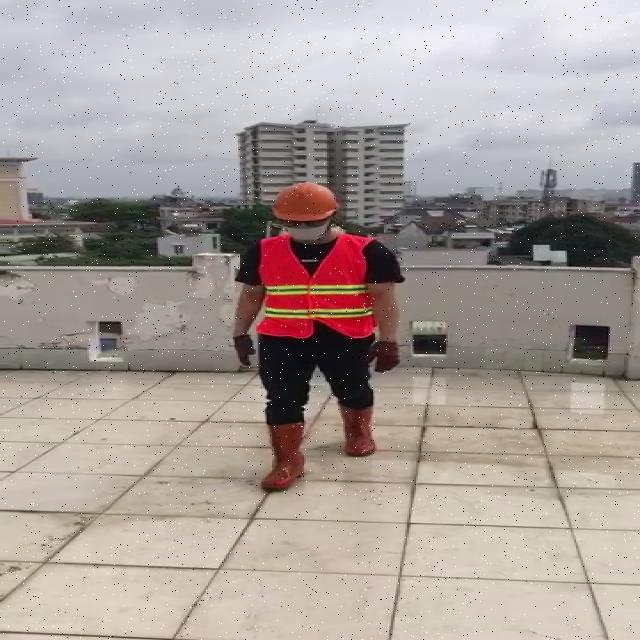Hard_hat: (266, 180, 343, 226)
Person: (226, 175, 417, 508)
Vest: (256, 228, 374, 339)
